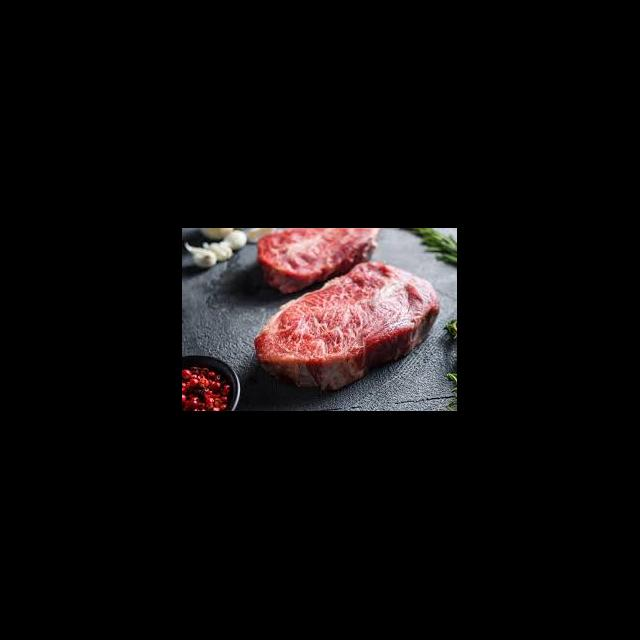beef: (254, 260, 444, 401)
